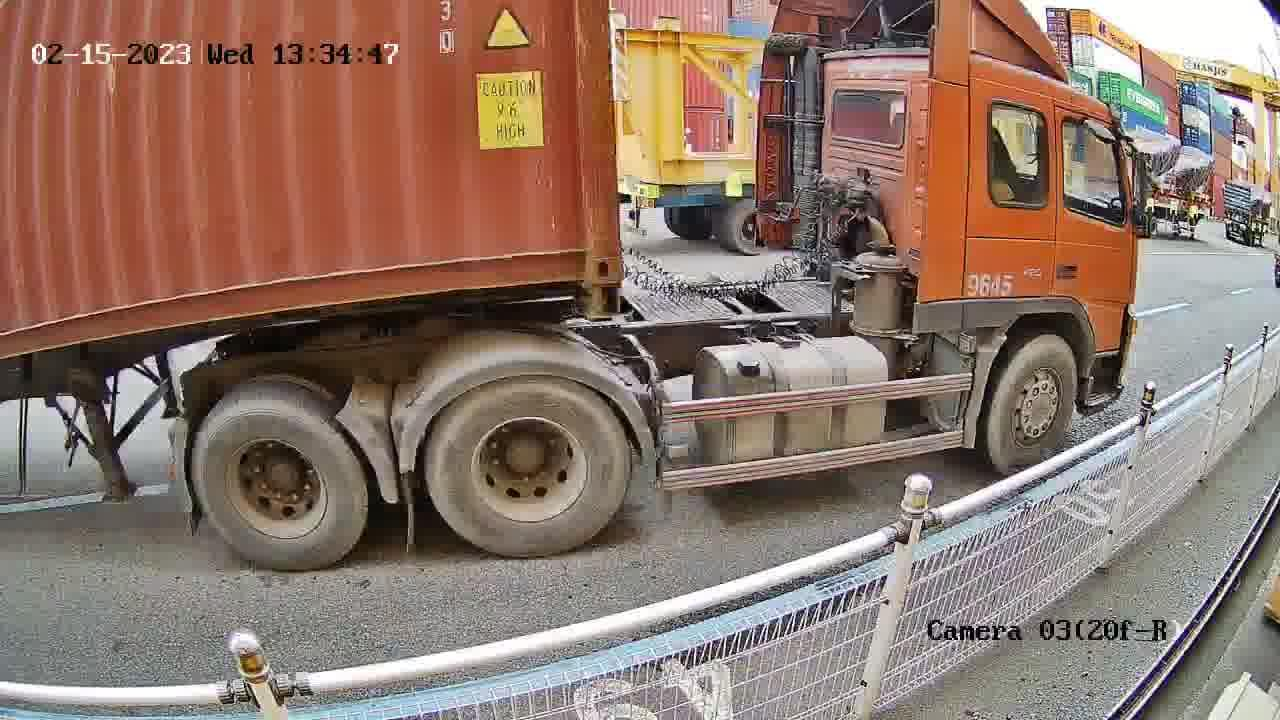Cone: (588, 280, 624, 315)
Hole_R: (550, 215, 625, 282)
Tire: (422, 378, 631, 555), (195, 393, 363, 571)
